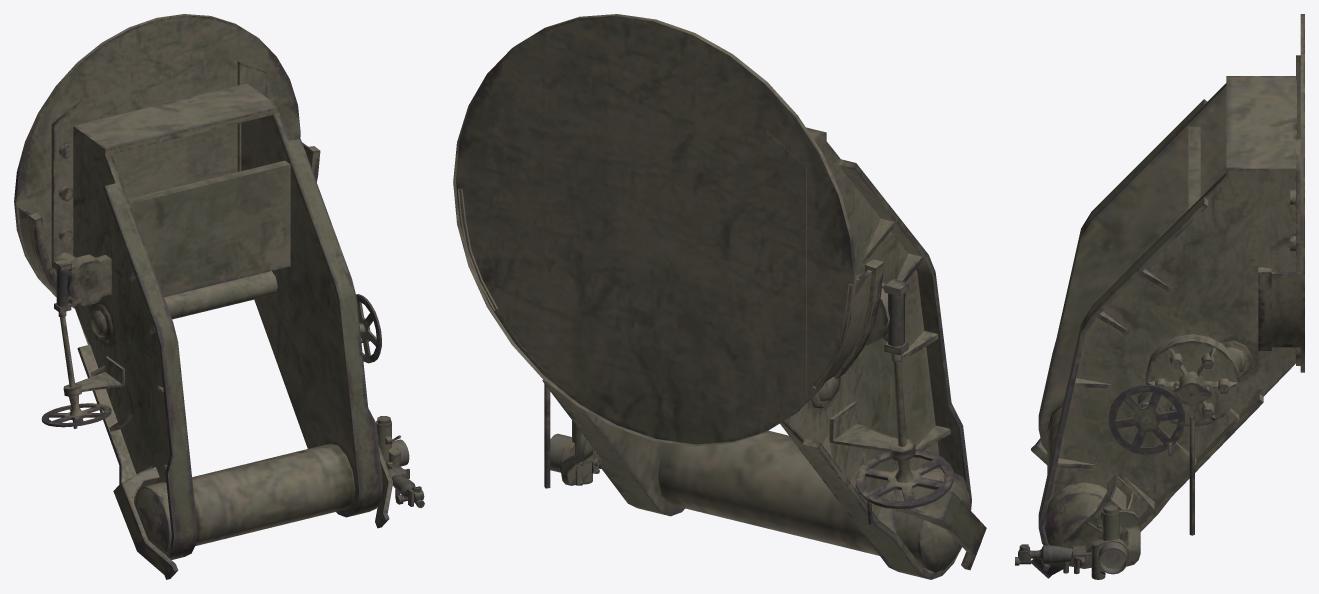
The model's file is Turret_01.glb.
3 views of the same model, side by side, from view 1: azimuth 30°, elevation 25°; view 2: azimuth 150°, elevation 25°; view 3: azimuth 270°, elevation 25° (orthographic). The views are drawn at different scales.
Visible parts, largest first — view 1: set_0_group_0; view 2: set_0_group_0; view 3: set_0_group_0.
Boxes of the visible parts, <box> form: set_0_group_0: <box>14,14,424,579</box>; set_0_group_0: <box>453,14,986,579</box>; set_0_group_0: <box>1015,14,1304,579</box>.
Bounding box in the file's own units: 1.81 × 2.44 × 1.31.
Materials: 1 (1 with a texture image).
